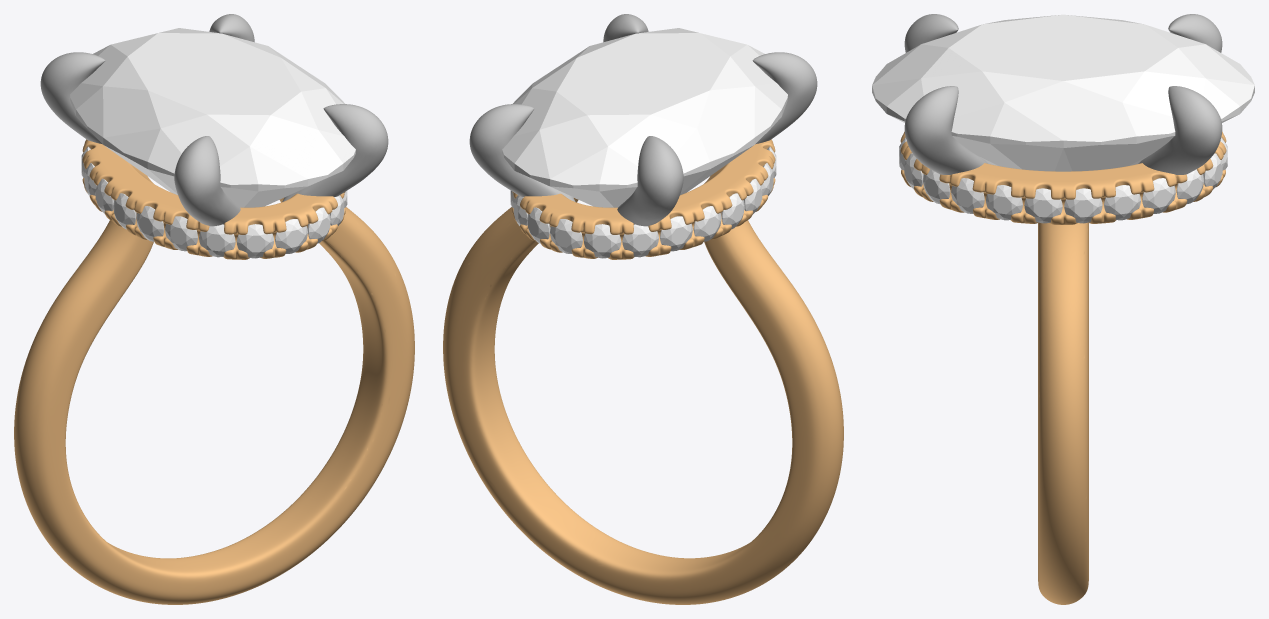
File: GLB Sample with Materials.glb
3 views of the same model, side by side, from view 1: azimuth 30°, elevation 25°; view 2: azimuth 150°, elevation 25°; view 3: azimuth 270°, elevation 25° (orthographic). The views are drawn at different scales.
Visible parts, largest first — view 1: /R02237.3dm, Diamond_Oval, Diamond_Round (×6); view 2: /R02237.3dm, Diamond_Oval, Diamond_Round (×6); view 3: Diamond_Oval, /R02237.3dm, Diamond_Round (×8).
Part boxes in pixels (x1,y1,x2,y2): /R02237.3dm: (14, 14, 414, 604); Diamond_Oval: (70, 28, 355, 207); Diamond_Round (×6): (136, 206, 330, 258); /R02237.3dm: (443, 14, 843, 604); Diamond_Oval: (502, 28, 787, 207); Diamond_Round (×6): (527, 206, 721, 258); Diamond_Oval: (872, 14, 1254, 171); /R02237.3dm: (900, 14, 1226, 604); Diamond_Round (×8): (923, 169, 1203, 223).
Bounding box in the file's own units: 2.21 × 2.8 × 1.81.
